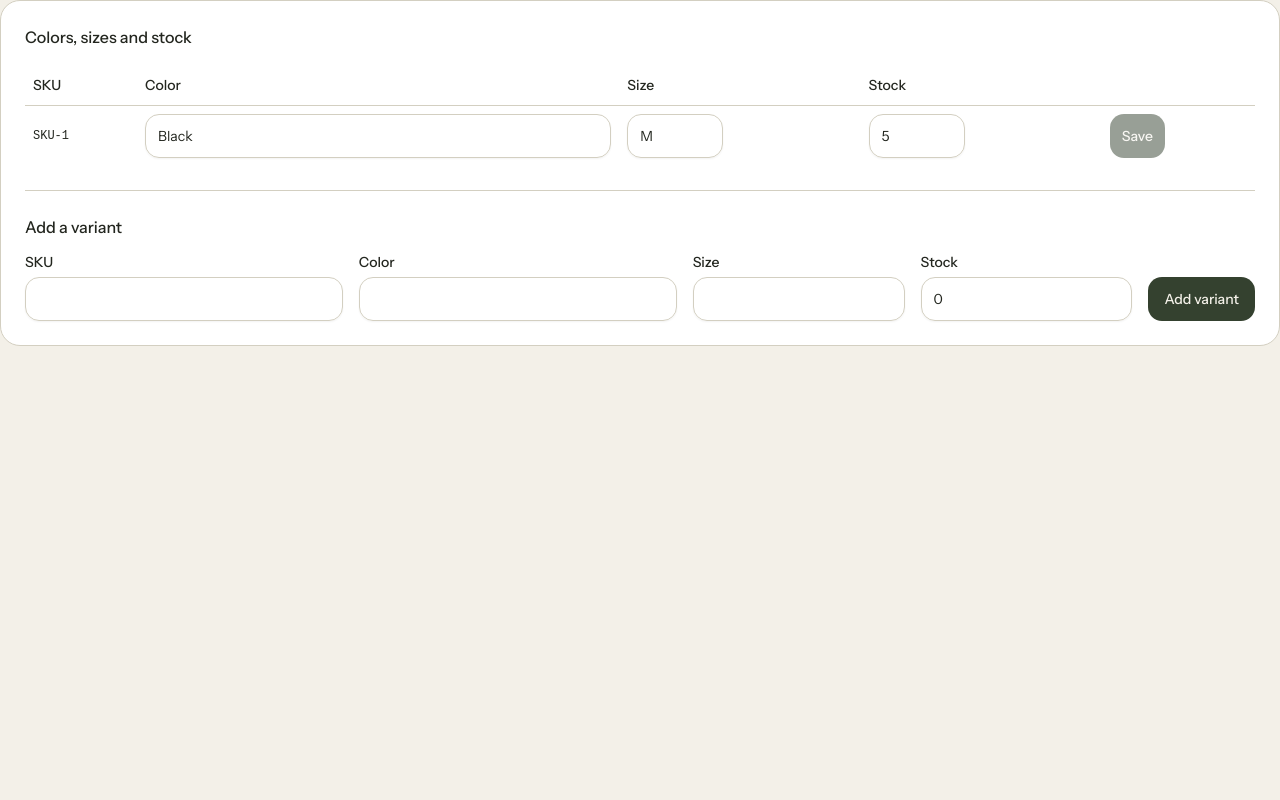
VariantsSection: the variants of a product › changing a variant › shows what the server saved in the boxes ("007" becomes 7)
Replace the text in the field named "Stock of SKU-1" with "007" at (916, 136), box [868,114,964,158]
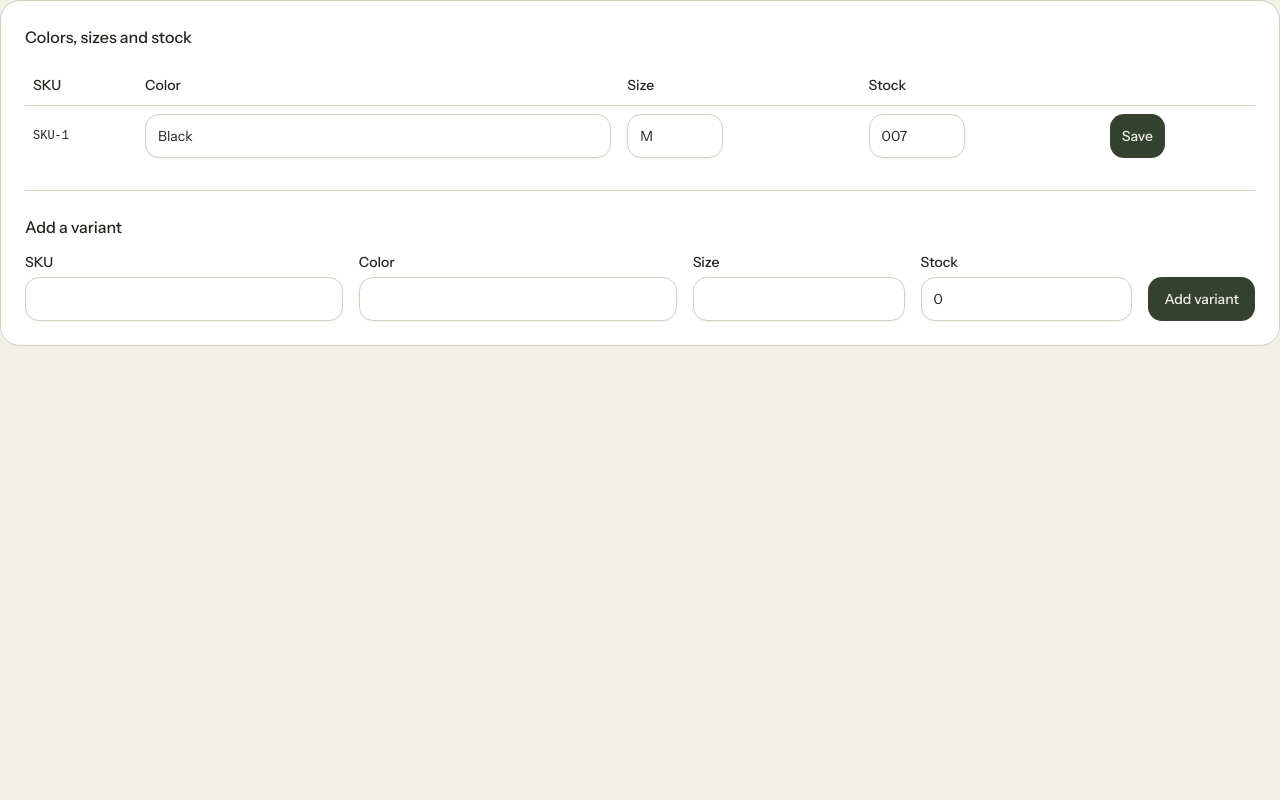
Click the button "Save".
click(1137, 136)  # box [1110,114,1165,158]
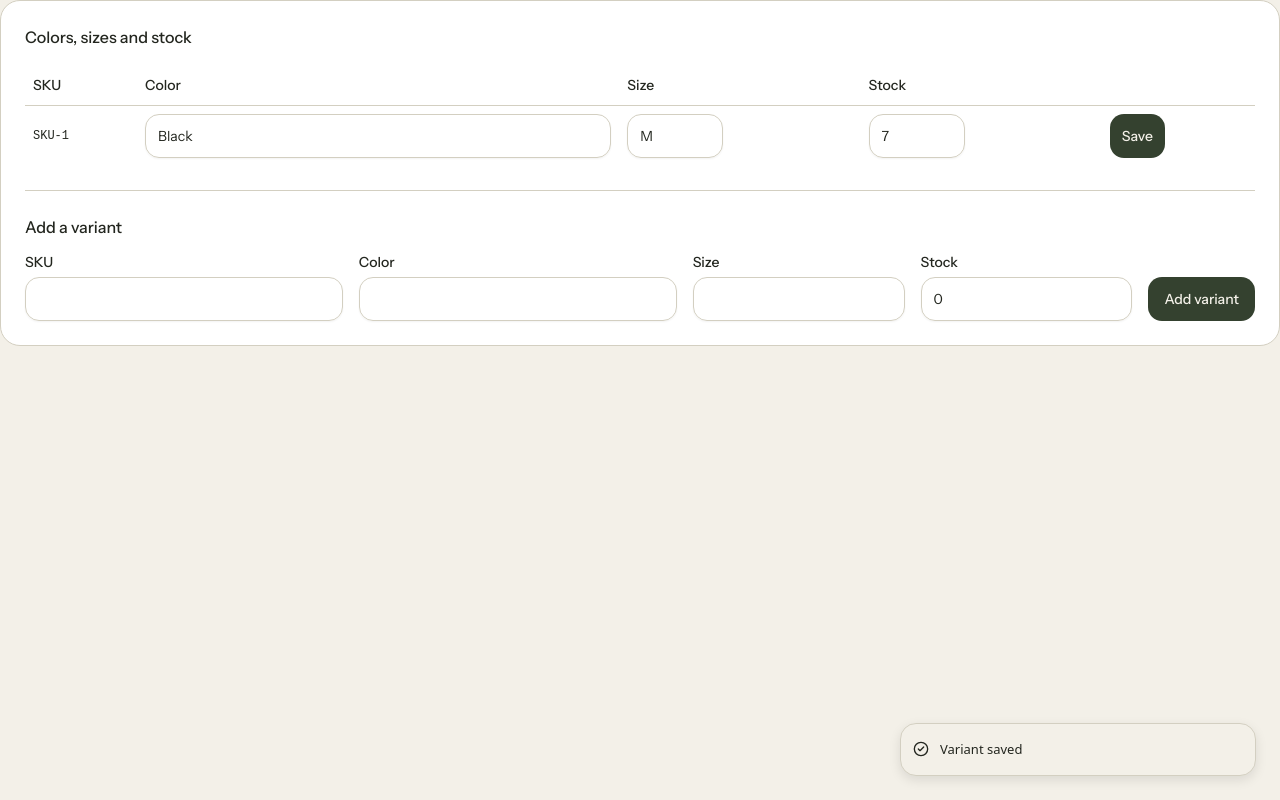
Check: the text "Variant saved" is shown, box [940,740,1022,759]
Check: the field named "Stock of SKU-1" holds "7", box [868,114,964,158]
